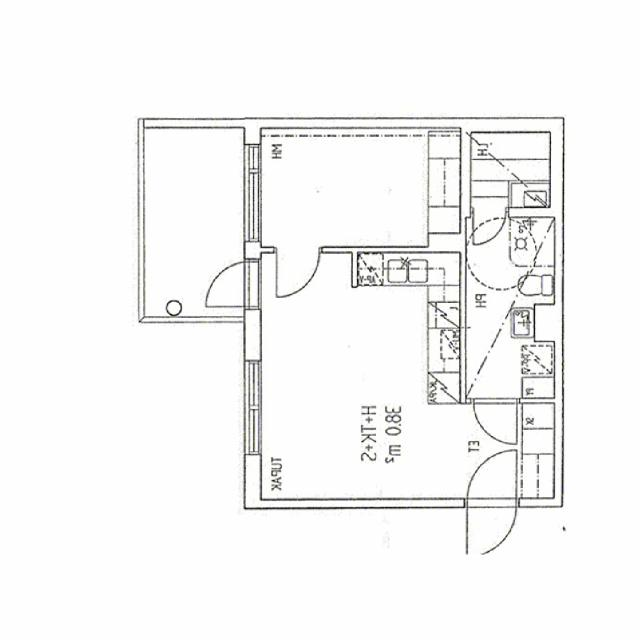door: (468, 450, 518, 507), (468, 500, 518, 557), (200, 262, 260, 306), (474, 398, 517, 446), (277, 247, 319, 294), (474, 207, 506, 250)
